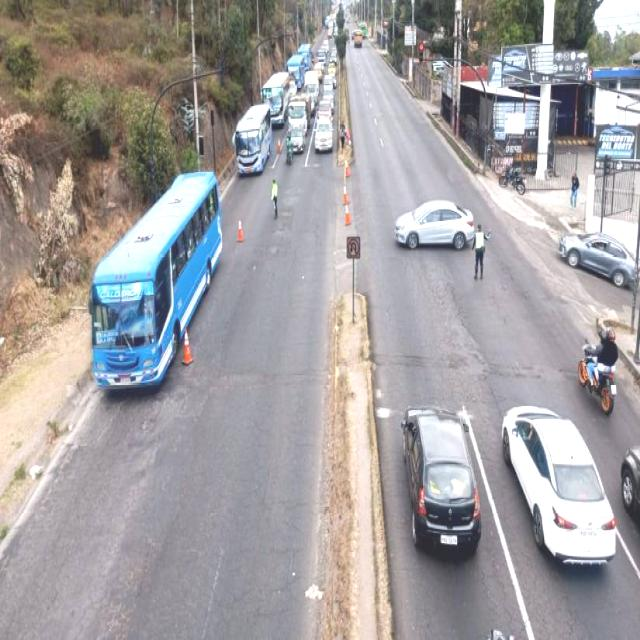BUS: (89, 177, 222, 400), (236, 107, 274, 177), (264, 74, 290, 128)
